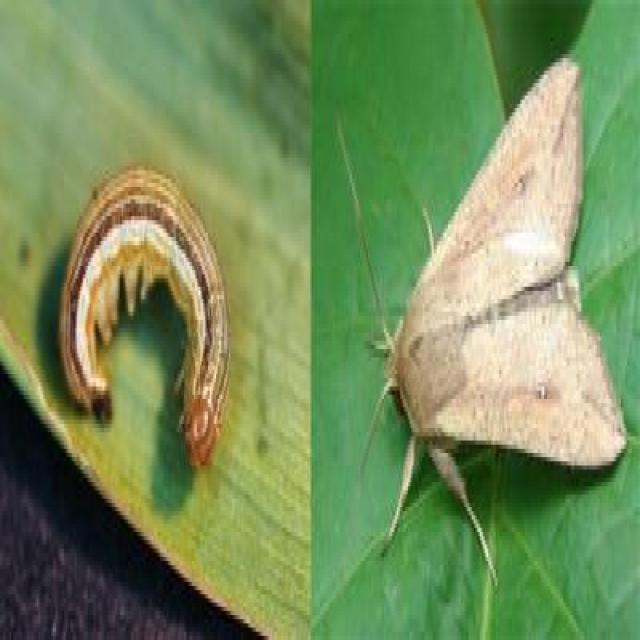armyworm: (362, 47, 639, 545), (58, 143, 234, 490)
